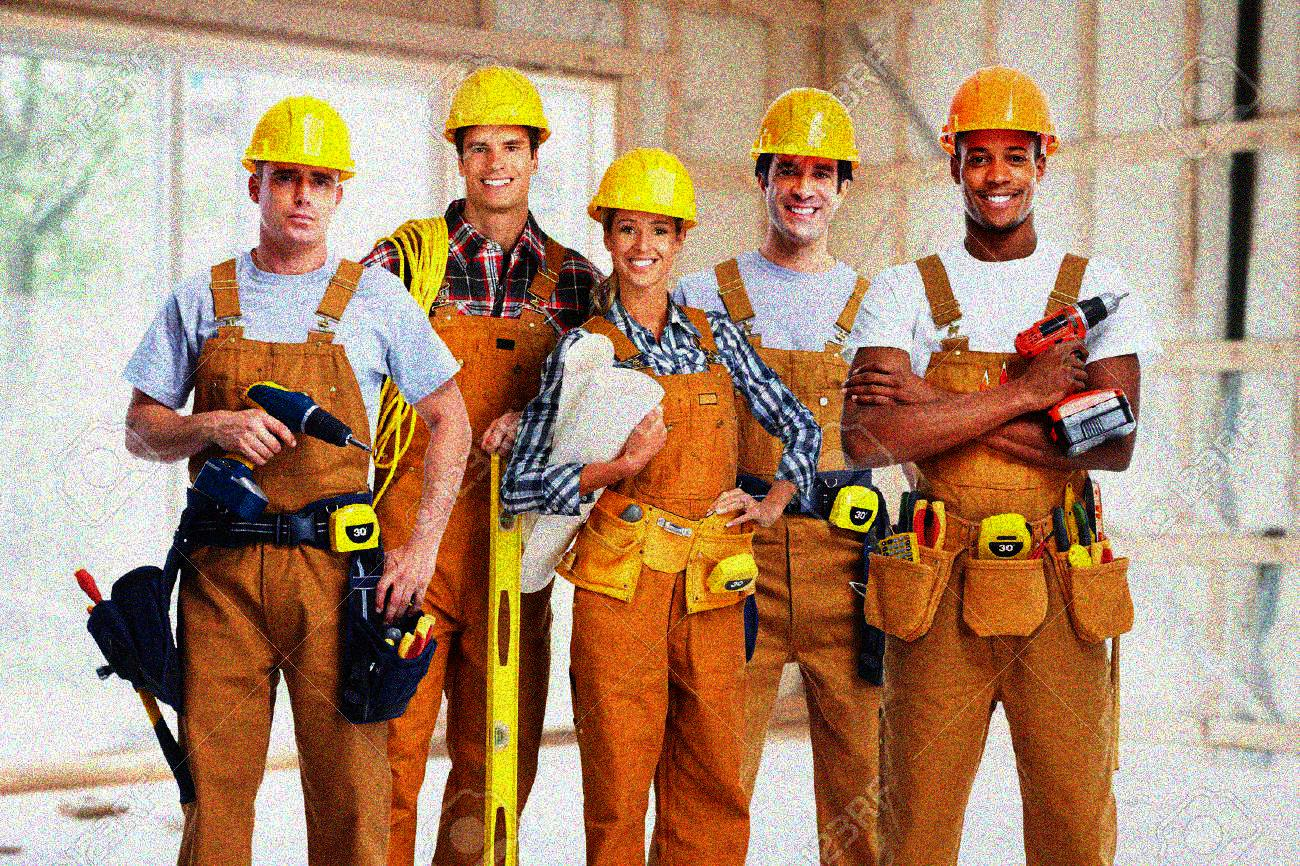helmet: (934, 64, 1062, 235), (239, 91, 361, 256), (746, 80, 865, 248), (434, 60, 554, 218), (586, 144, 701, 289)
